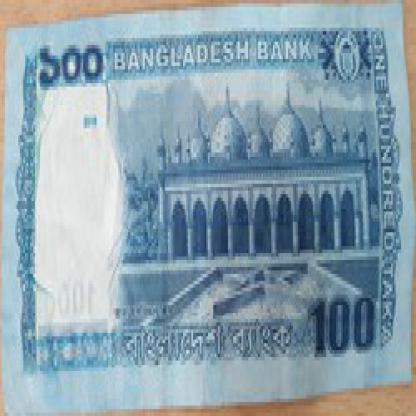one hundred taka: (304, 288, 379, 367), (30, 31, 110, 94)
